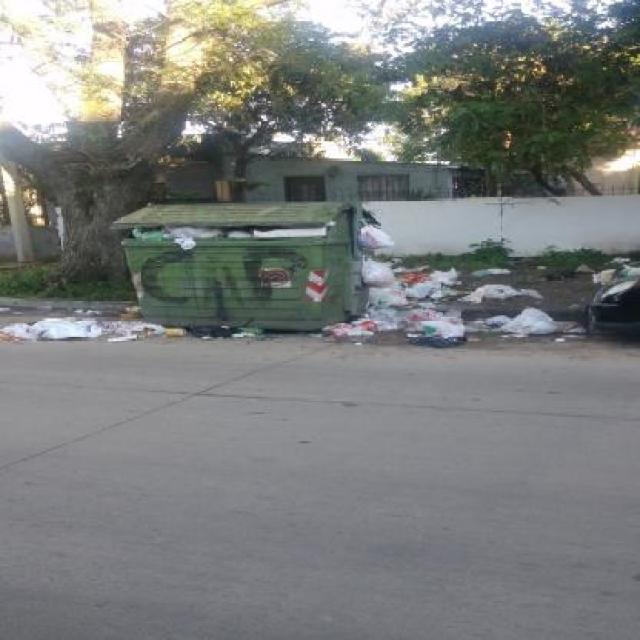garbage: (355, 253, 458, 342), (1, 312, 184, 340), (473, 308, 570, 340), (463, 277, 536, 302), (348, 217, 399, 252)
